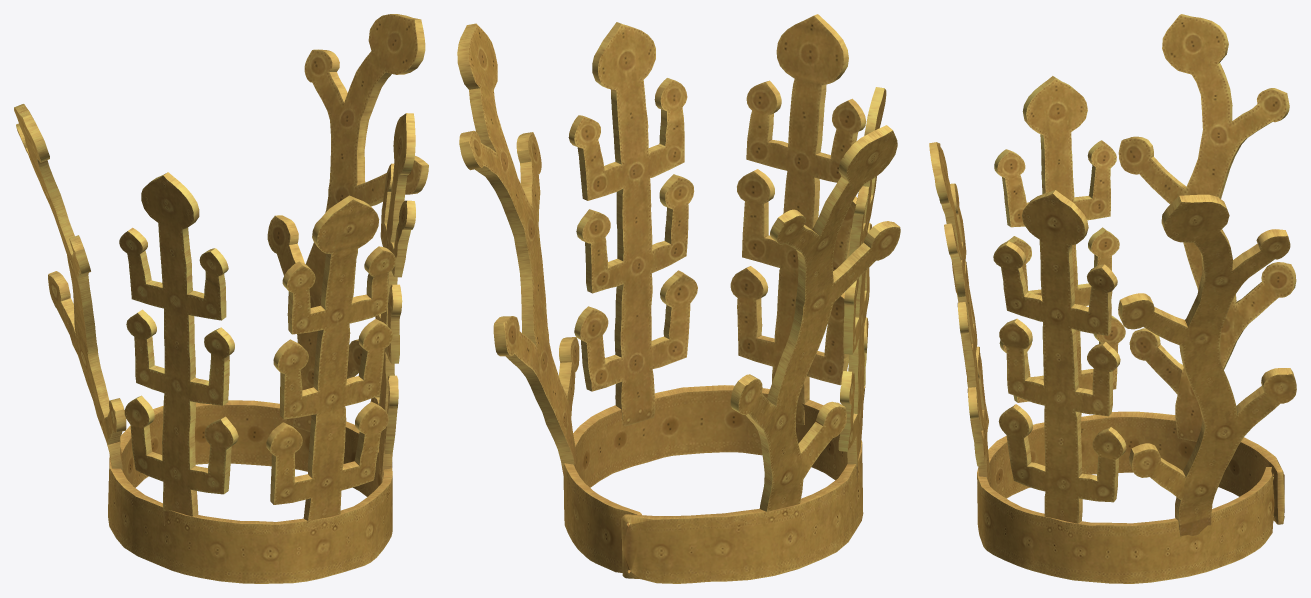
File: crown-v1.glb
The picture shows the model from 3 angles, left to right: view 1: azimuth 30°, elevation 25°; view 2: azimuth 150°, elevation 25°; view 3: azimuth 270°, elevation 25°; orthographic projection. The views are drawn at different scales.
Parts seen in each view (by area): view 1: bake_4_cage, bake_3_cage, bake_2_cage, bake_6_cage, bake_1_cage, bake_5_cage; view 2: bake_3_cage, bake_5_cage, bake_4_cage, bake_1_cage, bake_6_cage, bake_2_cage; view 3: bake_3_cage, bake_5_cage, bake_6_cage, bake_1_cage, bake_2_cage, bake_4_cage.
Boxes of the visible parts, x1=… form: bake_4_cage: x1=266, y1=195, x2=395, y2=522; bake_3_cage: x1=108, y1=400, x2=392, y2=583; bake_2_cage: x1=119, y1=172, x2=238, y2=525; bake_6_cage: x1=267, y1=14, x2=428, y2=431; bake_1_cage: x1=14, y1=104, x2=126, y2=471; bake_5_cage: x1=370, y1=113, x2=415, y2=481; bake_3_cage: x1=563, y1=385, x2=863, y2=583; bake_5_cage: x1=568, y1=22, x2=697, y2=426; bake_4_cage: x1=730, y1=14, x2=866, y2=424; bake_1_cage: x1=730, y1=125, x2=900, y2=511; bake_6_cage: x1=457, y1=23, x2=579, y2=475; bake_2_cage: x1=838, y1=87, x2=886, y2=481; bake_3_cage: x1=977, y1=411, x2=1284, y2=583; bake_5_cage: x1=993, y1=190, x2=1126, y2=523; bake_6_cage: x1=1118, y1=194, x2=1296, y2=536; bake_1_cage: x1=1118, y1=14, x2=1296, y2=441; bake_2_cage: x1=994, y1=76, x2=1125, y2=420; bake_4_cage: x1=929, y1=142, x2=990, y2=484.
Size of the model in its own units: 0.3466 by 0.3621 by 0.2853.
8 materials, 8 textured.
